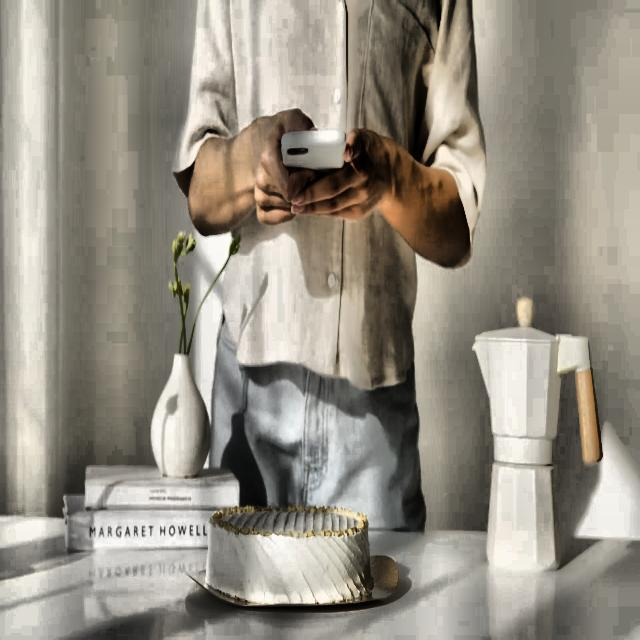Phone: (278, 124, 348, 176)
